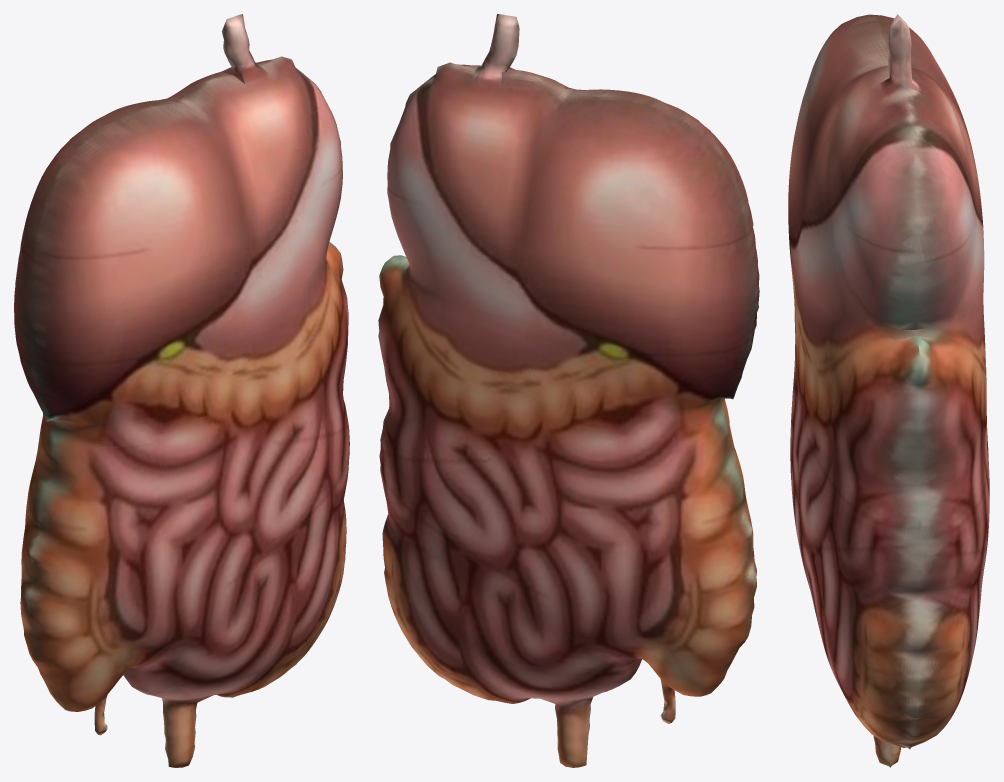
File: organs.glb
3 renders of one model, left to right at view 1: azimuth 30°, elevation 25°; view 2: azimuth 150°, elevation 25°; view 3: azimuth 270°, elevation 25°, orthographic. The views are drawn at different scales.
Visible parts, largest first — view 1: root_Material_277_0; view 2: root_Material_277_0; view 3: root_Material_277_0.
Boxes of the visible parts, bbox=[...] form: root_Material_277_0: bbox=[14, 14, 349, 767]; root_Material_277_0: bbox=[378, 14, 759, 767]; root_Material_277_0: bbox=[788, 14, 989, 767].
Bounding box in the file's own units: 0.3613 × 0.7401 × 0.1741.
Materials: 1 (1 with a texture image).
